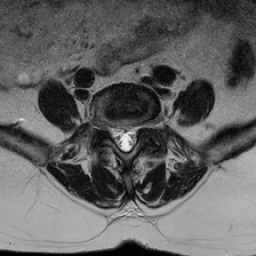CCS_normal: (121, 117, 129, 158)
LFS_stenosis: (137, 113, 147, 136)
LLS_normal: (129, 117, 137, 154)
RFS_normal: (102, 112, 112, 139)
RLS_normal: (112, 115, 121, 153)
